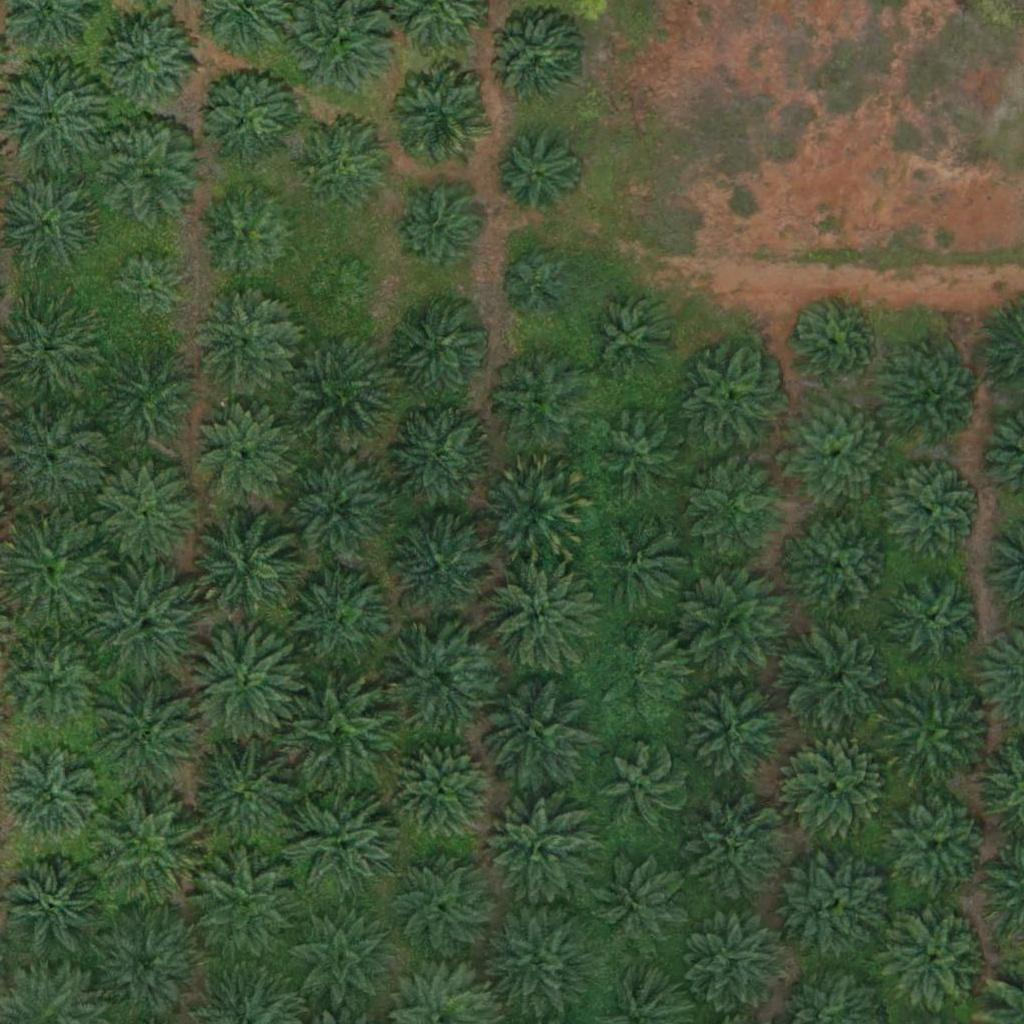Kelapa_Sawit: (92, 674, 205, 788), (190, 850, 303, 964), (781, 398, 894, 512), (785, 510, 898, 624), (882, 674, 995, 788), (283, 905, 396, 1019), (479, 454, 592, 567), (382, 295, 495, 408), (93, 567, 206, 680), (187, 628, 300, 741), (189, 737, 302, 850), (483, 558, 596, 671), (478, 675, 591, 788), (482, 797, 595, 910), (680, 905, 793, 1018), (93, 799, 205, 913), (383, 403, 495, 516), (284, 332, 396, 445), (282, 454, 394, 567), (89, 908, 201, 1021), (190, 508, 302, 621), (280, 561, 392, 674), (279, 677, 391, 790), (287, 791, 399, 904), (382, 624, 494, 737), (386, 848, 498, 961), (485, 905, 597, 1018), (683, 568, 795, 681), (681, 676, 793, 789), (785, 625, 897, 738), (784, 849, 896, 962), (487, 351, 587, 452), (298, 114, 398, 215), (196, 63, 296, 164), (200, 182, 300, 283), (192, 290, 292, 391), (192, 401, 292, 502), (96, 8, 196, 109), (97, 120, 197, 221), (99, 346, 199, 447), (97, 462, 197, 563), (6, 860, 106, 961), (388, 516, 488, 617), (391, 739, 491, 840), (689, 800, 789, 901), (787, 736, 887, 837), (884, 350, 984, 451), (889, 793, 989, 894), (882, 908, 982, 1009), (487, 9, 587, 109), (388, 69, 488, 169), (1, 747, 101, 847), (680, 350, 780, 450), (693, 460, 793, 560), (884, 459, 984, 559), (887, 570, 987, 670), (492, 133, 580, 221), (587, 295, 675, 383), (7, 644, 95, 732), (598, 525, 686, 613), (603, 415, 690, 503), (394, 185, 481, 273), (602, 629, 689, 717), (597, 743, 684, 831), (598, 859, 685, 947), (788, 298, 875, 386), (110, 252, 185, 327), (505, 253, 568, 316), (307, 256, 369, 319)
